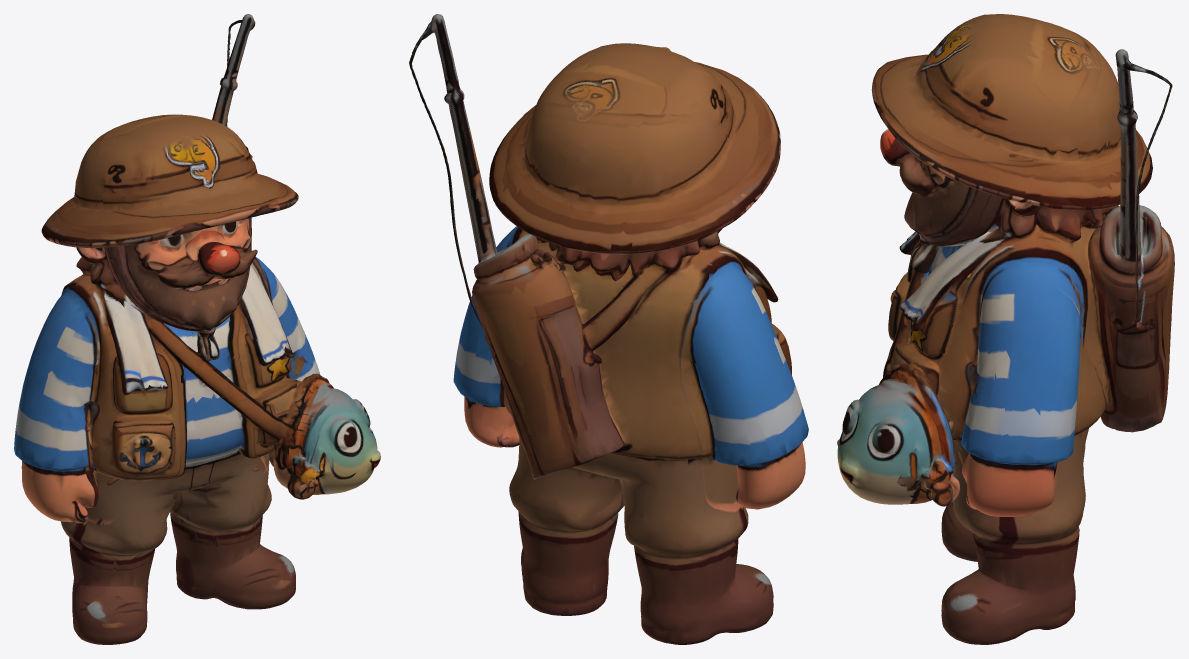
Rendered from barlock_character.fbx.
3 views of the same model, side by side, from view 1: azimuth 30°, elevation 25°; view 2: azimuth 150°, elevation 25°; view 3: azimuth 270°, elevation 25° (orthographic). The views are drawn at different scales.
Parts seen in each view (by area): view 1: tripo_node_ebdc8aba; view 2: tripo_node_ebdc8aba; view 3: tripo_node_ebdc8aba.
Part boxes in pixels (x1,y1,x2,y2): tripo_node_ebdc8aba: [14, 14, 380, 644]; tripo_node_ebdc8aba: [409, 14, 808, 644]; tripo_node_ebdc8aba: [837, 14, 1174, 644].
Bounding box in the file's own units: 0.8721 × 1.45 × 0.7293.
1 material, 1 textured.
